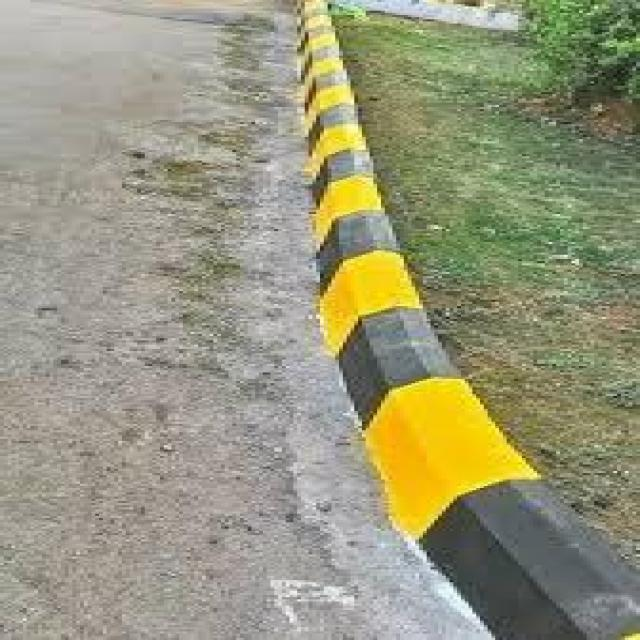curb: (349, 385, 640, 640), (290, 1, 411, 380)
